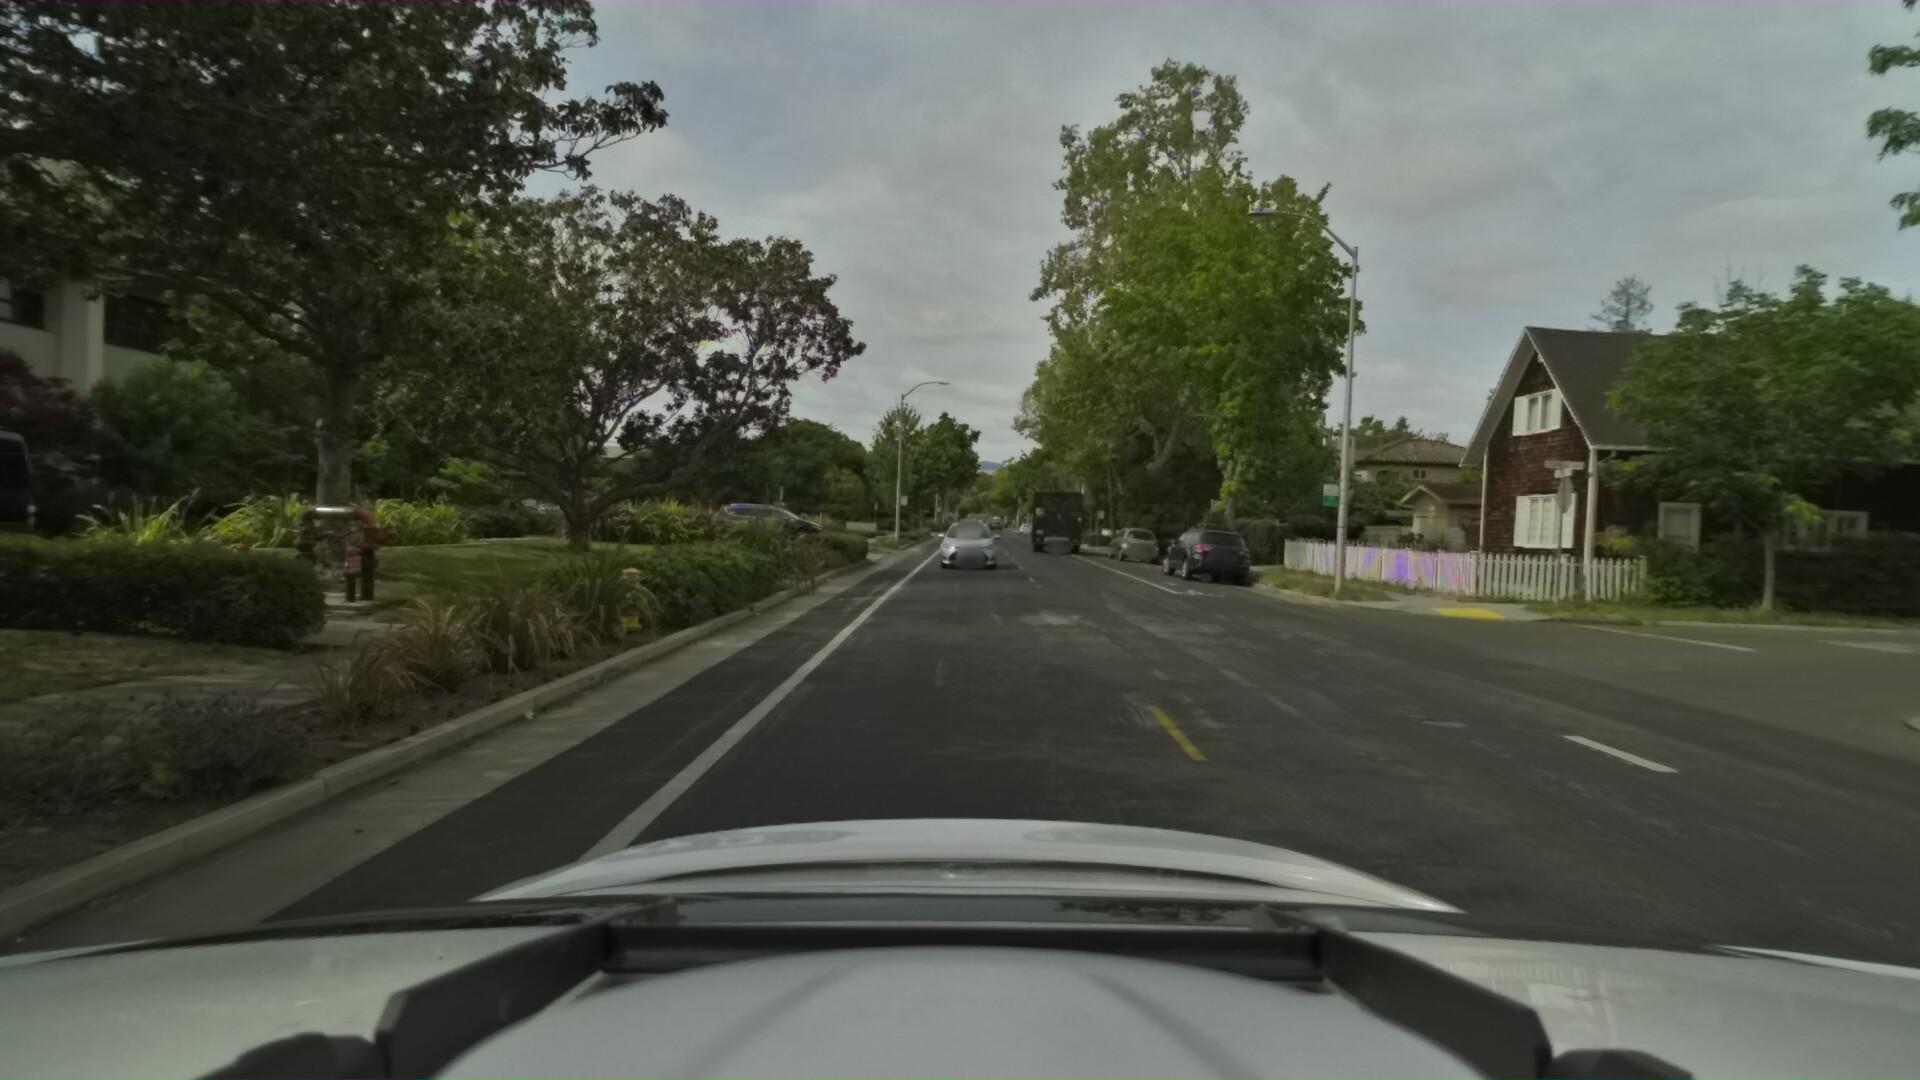car: (1150, 517, 1255, 584), (719, 501, 828, 542), (934, 514, 1000, 568), (1101, 522, 1160, 560), (955, 514, 986, 541)
truck: (1025, 484, 1080, 553)
